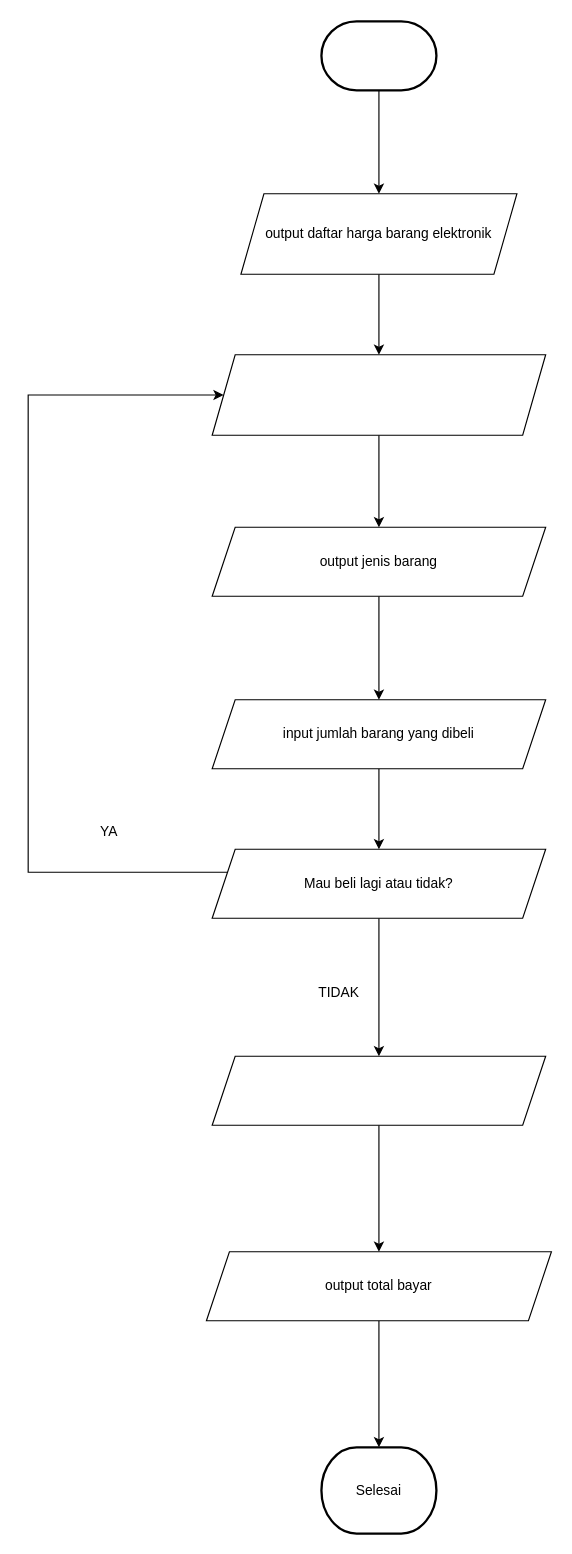
This 572x1554 diagram has some shape labels left out. The shapes that lost their labels are listed below. From the top down, each one's centre as x and y in pixels, then its label:
At point (378, 55): "Mulai".
At point (378, 394): "input pilih barang".
At point (378, 1090): "output struk pembayaran".
